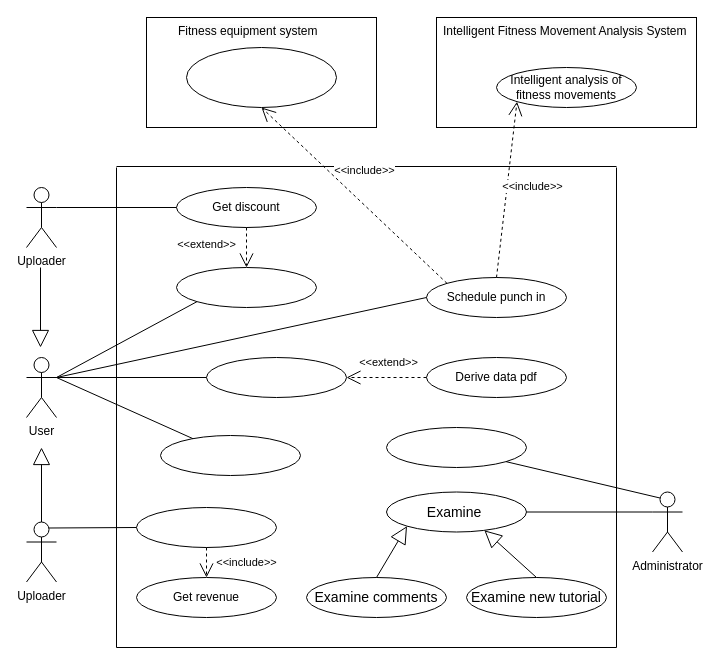
Some shapes in this 720 by 666 pixel diagram are drawn without their labels. The centre of each missing label's shape, as x and y in pixels:
Announce: (x=456, y=447)
Browse the tutorial: (x=230, y=455)
Buy tutorials: (x=246, y=287)
Recommended fitness equipment by the system: (x=261, y=77)
Release tutorial: (x=206, y=527)
View the fitness progress and data: (x=276, y=377)
